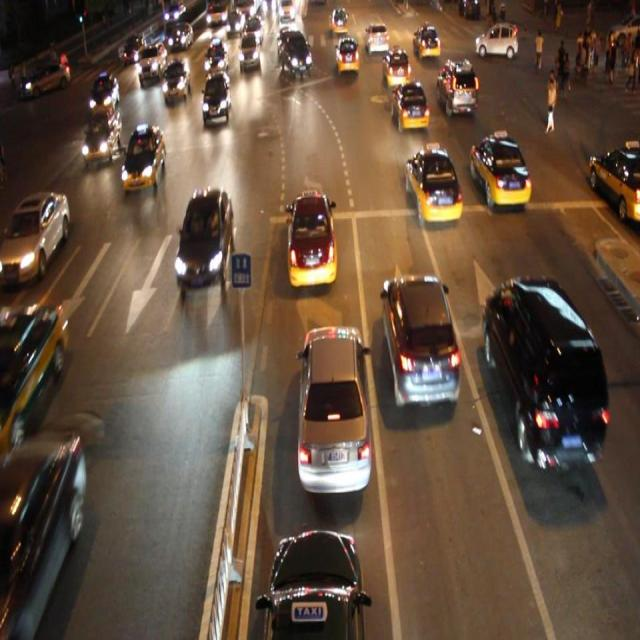car: (482, 278, 609, 471), (1, 436, 84, 640), (296, 326, 370, 493), (262, 530, 363, 640), (380, 274, 459, 406), (1, 308, 70, 445), (1, 190, 68, 283), (175, 187, 232, 293), (285, 190, 337, 286), (469, 130, 530, 210), (585, 136, 640, 221), (405, 144, 463, 223), (123, 124, 164, 194), (436, 58, 478, 115), (85, 108, 121, 163), (391, 80, 429, 130), (278, 31, 313, 76), (203, 72, 230, 122), (162, 59, 189, 101), (90, 73, 118, 112), (383, 47, 410, 86), (138, 43, 166, 79), (335, 36, 359, 74), (204, 40, 228, 72)
